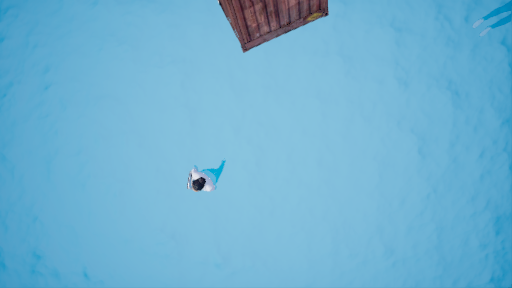person: (171, 152, 227, 192)
